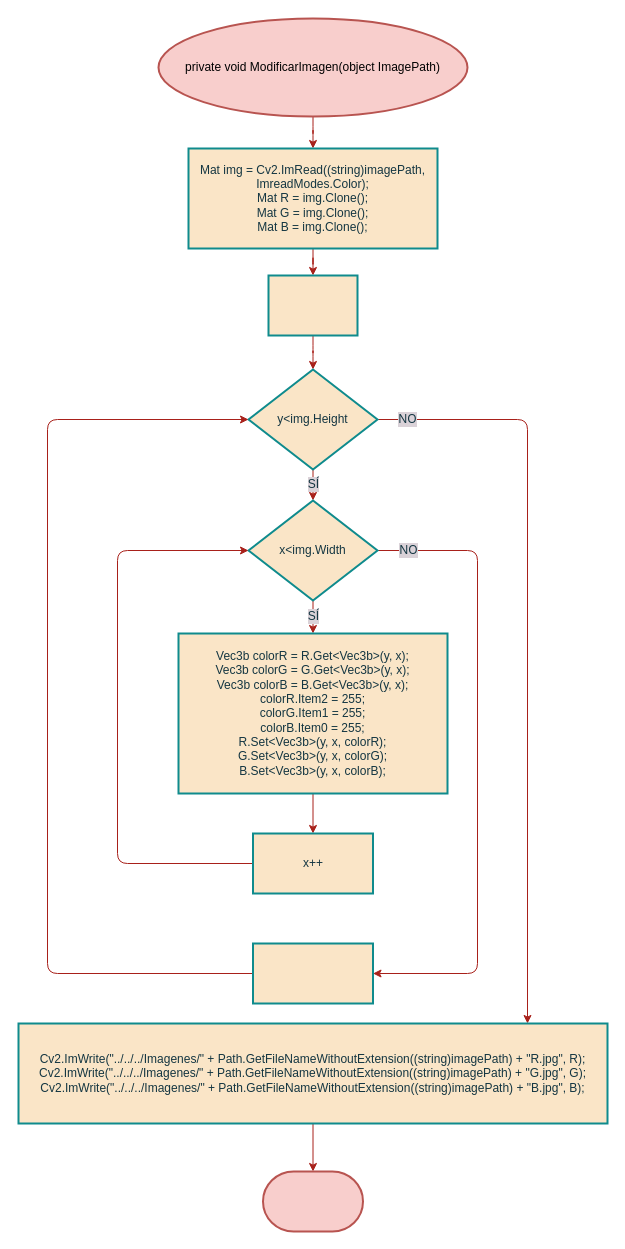
Some shapes in this 625 by 1249 pixel diagram are drawn without their labels. The centre of each missing label's shape, as x and y in pixels:
FIN: pixel 313 1201
int y = 0; int x=0;: pixel 312 305
y++: pixel 313 973
